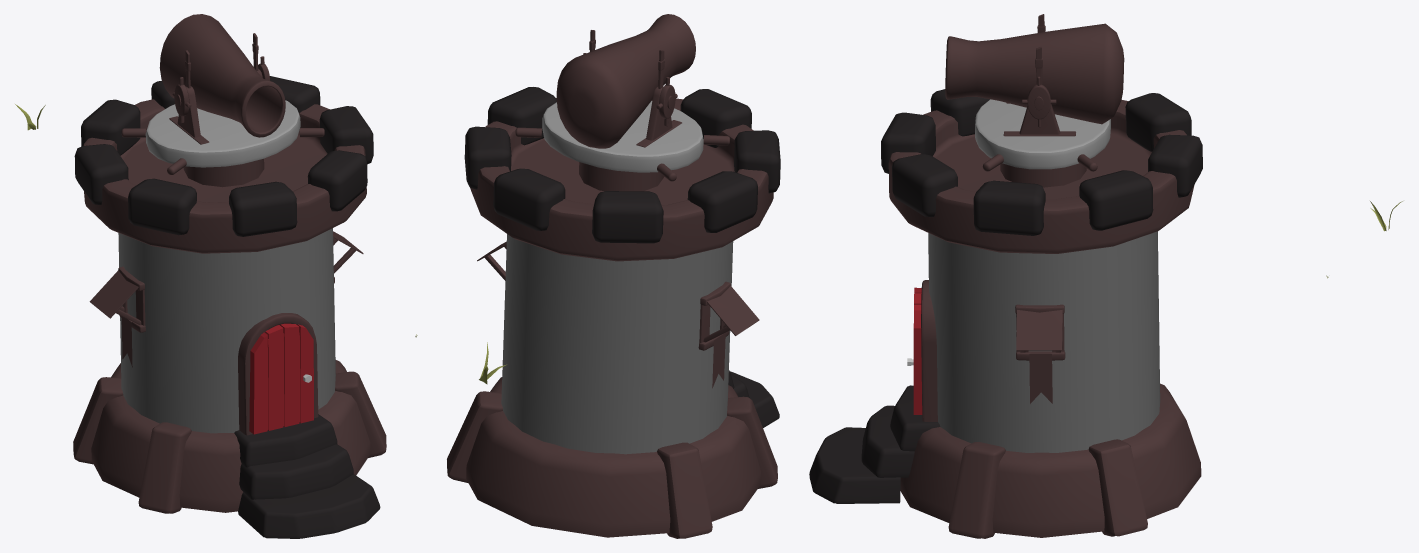
Rendered from castle1.fbx.
3 views of the same model, side by side, from view 1: azimuth 30°, elevation 25°; view 2: azimuth 150°, elevation 25°; view 3: azimuth 270°, elevation 25° (orthographic). The views are drawn at different scales.
Parts seen in each view (by area): view 1: b2_low.001, b3_low.001, b1_low.001, p6_low, Door, p1_low, b11_low.001, b4_low.001, b4_low3.001, b12_low1.001, b10_low.001, b9_low.001 (+8 smaller); view 2: b2_low.001, b1_low.001, b3_low.001, p6_low, b4_low2.001, p1_low, b12_low1.001, b4_low3.001, b4_low1.001, b4_low.001, b12_low.001, p9_low1 (+5 smaller); view 3: b2_low.001, b1_low.001, b3_low.001, p6_low, b12_low.001, b4_low1.001, p1_low, b4_low.001, b4_low2.001, b11_low.001, b10_low.001, p9_low1 (+7 smaller).
Part boxes in pixels (x1,y1,x2,y2): b2_low.001: [118, 228, 335, 433]; b3_low.001: [83, 99, 366, 253]; b1_low.001: [91, 360, 370, 512]; p6_low: [159, 14, 285, 137]; Door: [249, 323, 313, 434]; p1_low: [145, 100, 300, 167]; b11_low.001: [238, 474, 380, 538]; b4_low.001: [229, 150, 367, 236]; b4_low3.001: [74, 144, 196, 235]; b12_low1.001: [73, 377, 191, 513]; b10_low.001: [239, 444, 353, 499]; b9_low.001: [234, 414, 337, 467]; b2_low.001: [501, 234, 733, 454]; b1_low.001: [466, 377, 760, 537]; b3_low.001: [470, 98, 773, 261]; p6_low: [556, 14, 695, 148]; b4_low2.001: [493, 168, 663, 243]; p1_low: [542, 101, 703, 172]; b12_low1.001: [657, 396, 777, 538]; b4_low3.001: [687, 130, 780, 232]; b4_low1.001: [464, 87, 556, 189]; b4_low.001: [680, 89, 751, 147]; b12_low.001: [447, 391, 502, 483]; p9_low1: [583, 30, 681, 147]; b2_low.001: [928, 231, 1160, 452]; b1_low.001: [900, 383, 1201, 537]; b3_low.001: [888, 100, 1194, 253]; p6_low: [945, 23, 1124, 124]; b12_low.001: [948, 439, 1147, 538]; b4_low1.001: [973, 170, 1153, 235]; p1_low: [975, 99, 1110, 169]; b4_low.001: [881, 112, 957, 216]; b4_low2.001: [1125, 93, 1202, 197]; b11_low.001: [809, 427, 900, 503]; b10_low.001: [861, 405, 914, 477]; p9_low1: [1003, 14, 1075, 136].
Size of the model in its own units: 534 by 823 by 977.
